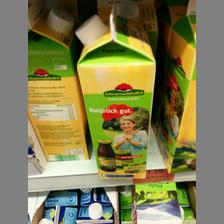Milch: (76, 5, 156, 181)
